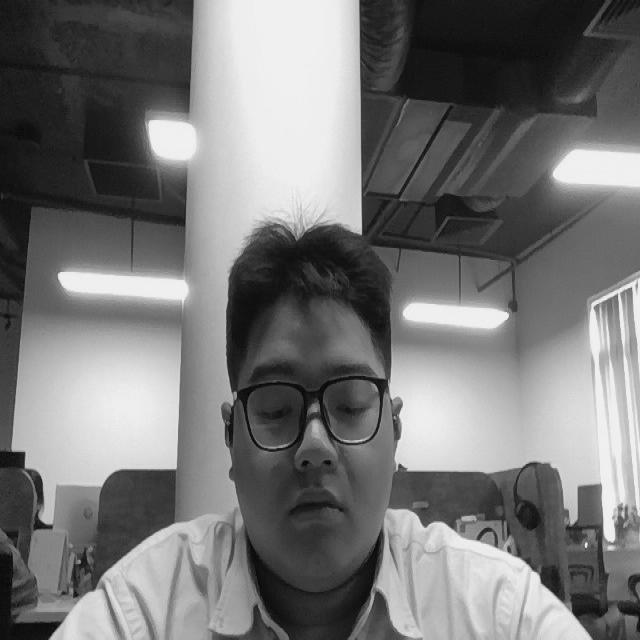real: (217, 215, 408, 601), (240, 373, 380, 440)
